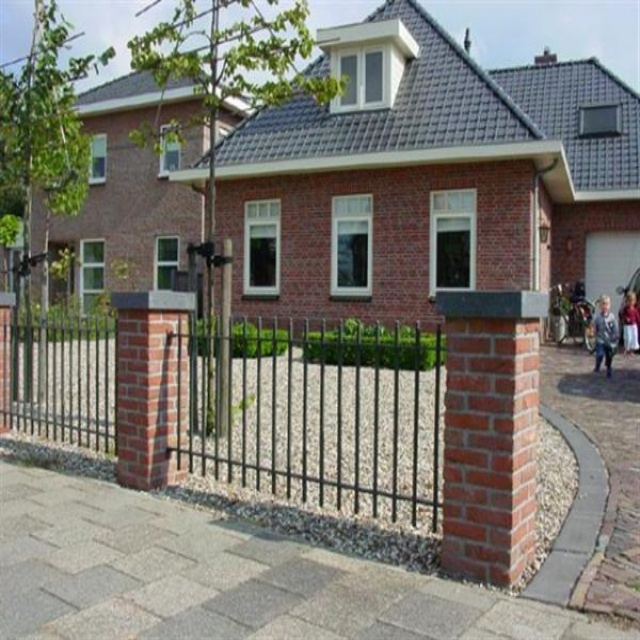obstacle: (159, 129, 529, 557)
